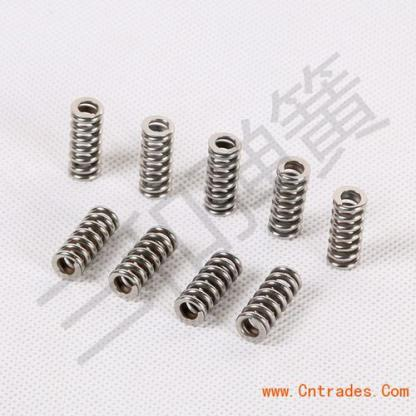FOD: (235, 263, 304, 347), (108, 225, 179, 303), (174, 249, 244, 328), (51, 202, 119, 283), (266, 155, 312, 242), (324, 184, 368, 273), (201, 132, 243, 219), (64, 97, 106, 183), (134, 114, 175, 200)
